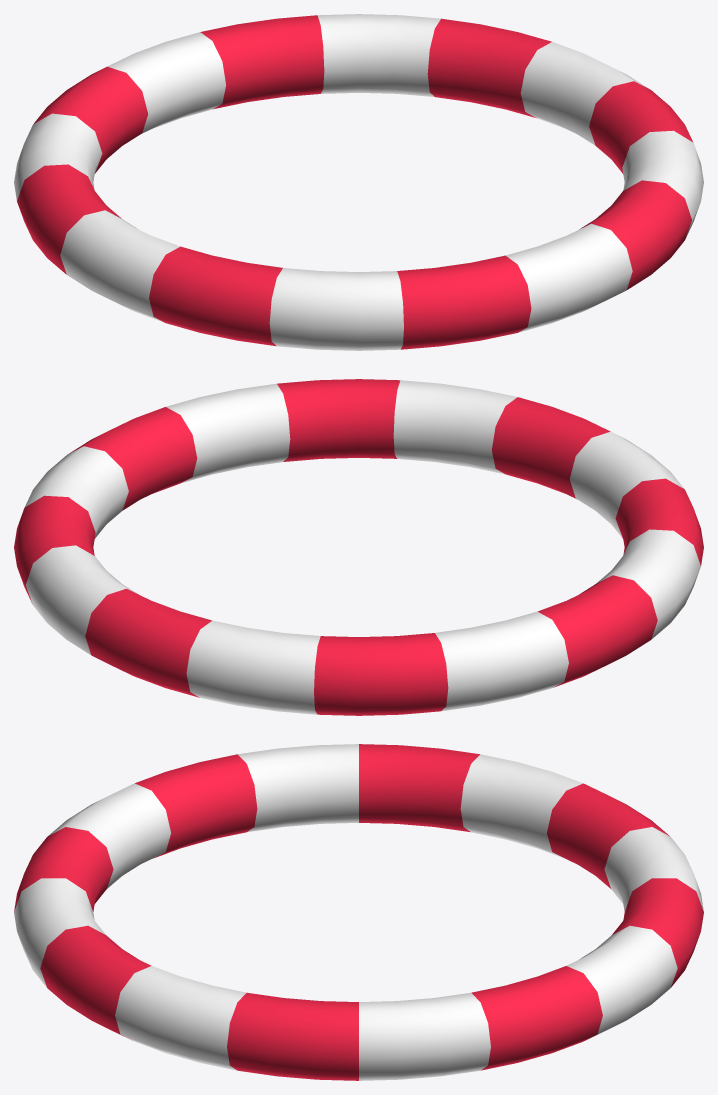
The model's file is aro_caramelo.obj.
3 views of the same model, one above another, from view 1: azimuth 30°, elevation 25°; view 2: azimuth 150°, elevation 25°; view 3: azimuth 270°, elevation 25° (orthographic).
Visible parts, largest first — view 1: Aro_Caramelo; view 2: Aro_Caramelo; view 3: Aro_Caramelo.
Part boxes in pixels (box(x1,y1,x2,y2)): Aro_Caramelo: box(14, 14, 703, 350); Aro_Caramelo: box(14, 379, 703, 715); Aro_Caramelo: box(14, 744, 703, 1080).
Bounding box in the file's own units: 2.26 × 0.2473 × 2.26.
